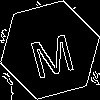M: (25, 25, 78, 80)
